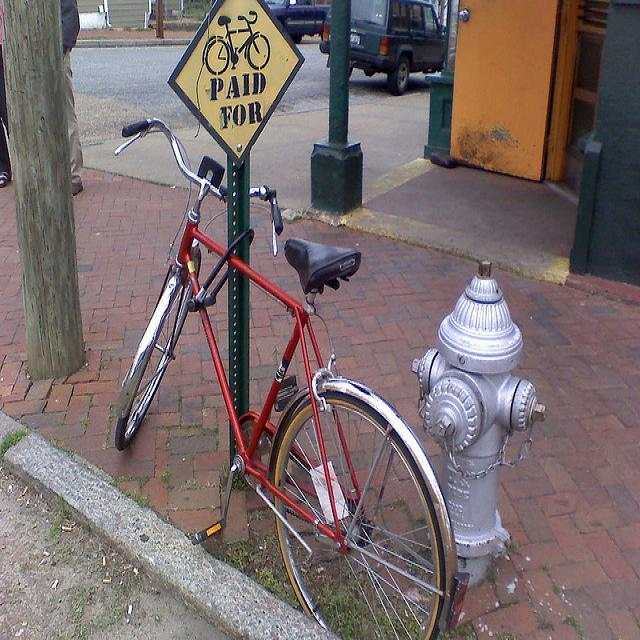fire_hydrant: (410, 262, 546, 586)
